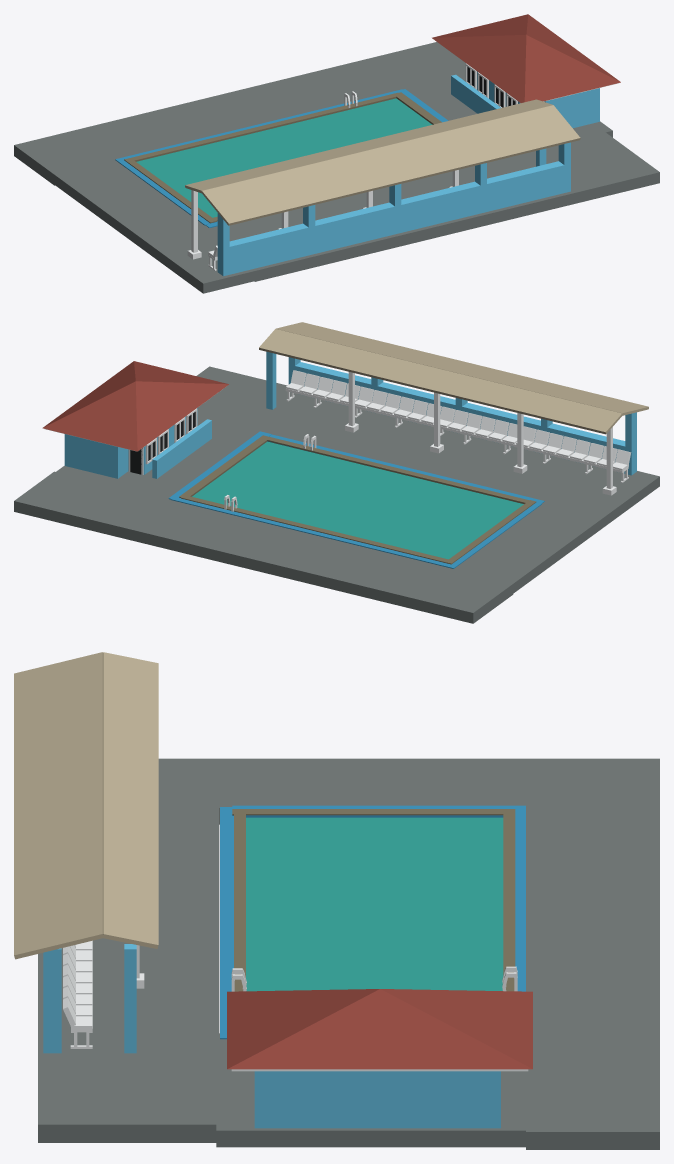
Rendered from PoolView.glb.
The picture shows the model from 3 angles, top to bottom: view 1: azimuth 30°, elevation 25°; view 2: azimuth 150°, elevation 25°; view 3: azimuth 270°, elevation 25°; orthographic projection. The views are drawn at different scales.
Parts seen in each view (by area): view 1: cube.176; view 2: cube.176; view 3: cube.176.
Part boxes in pixels (x1,y1,x2,y2): cube.176: (14,14,659,293); cube.176: (14,322,659,623); cube.176: (14,652,659,1149).
Size of the model in its own units: 36.86 by 6.28 by 26.39.
14 materials, 14 textured.
